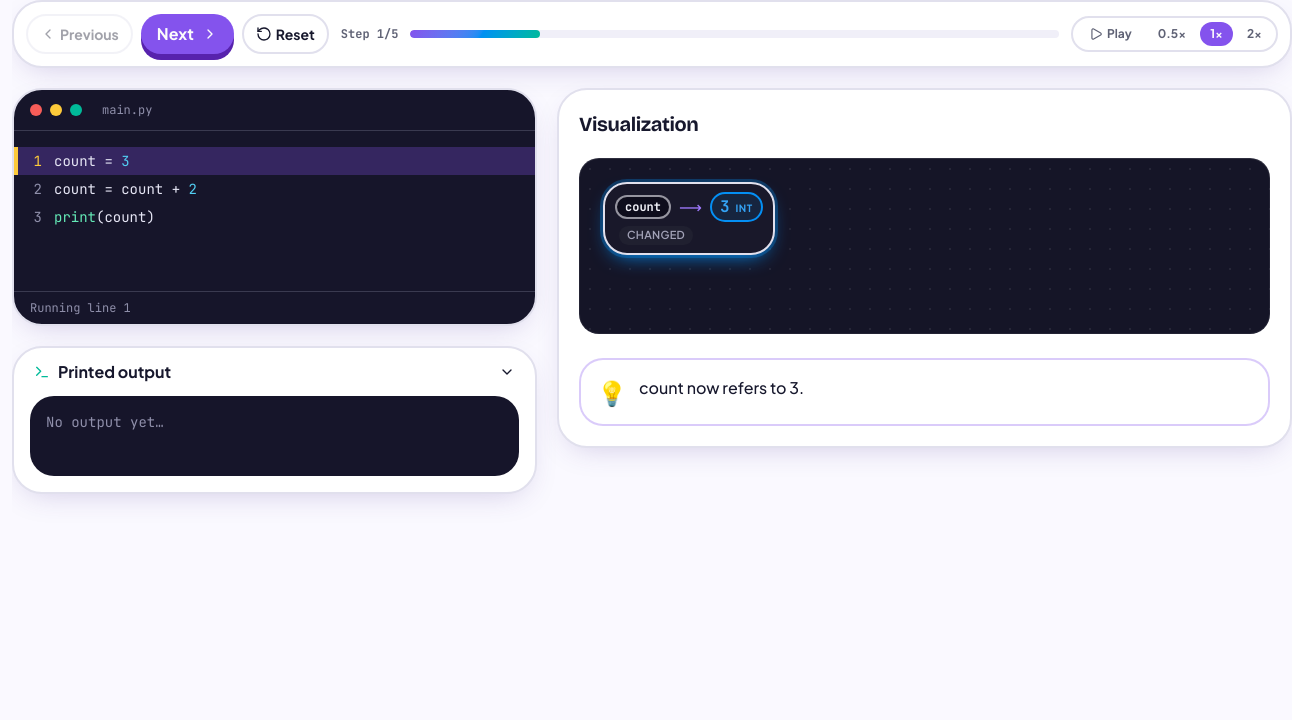
Scenario: WalkthroughPlayer keeps code and diagram in sync › Reset returns to the first event
Step 1. Click the button named "Next step" → (187,34), box 141,14 -> 234,54
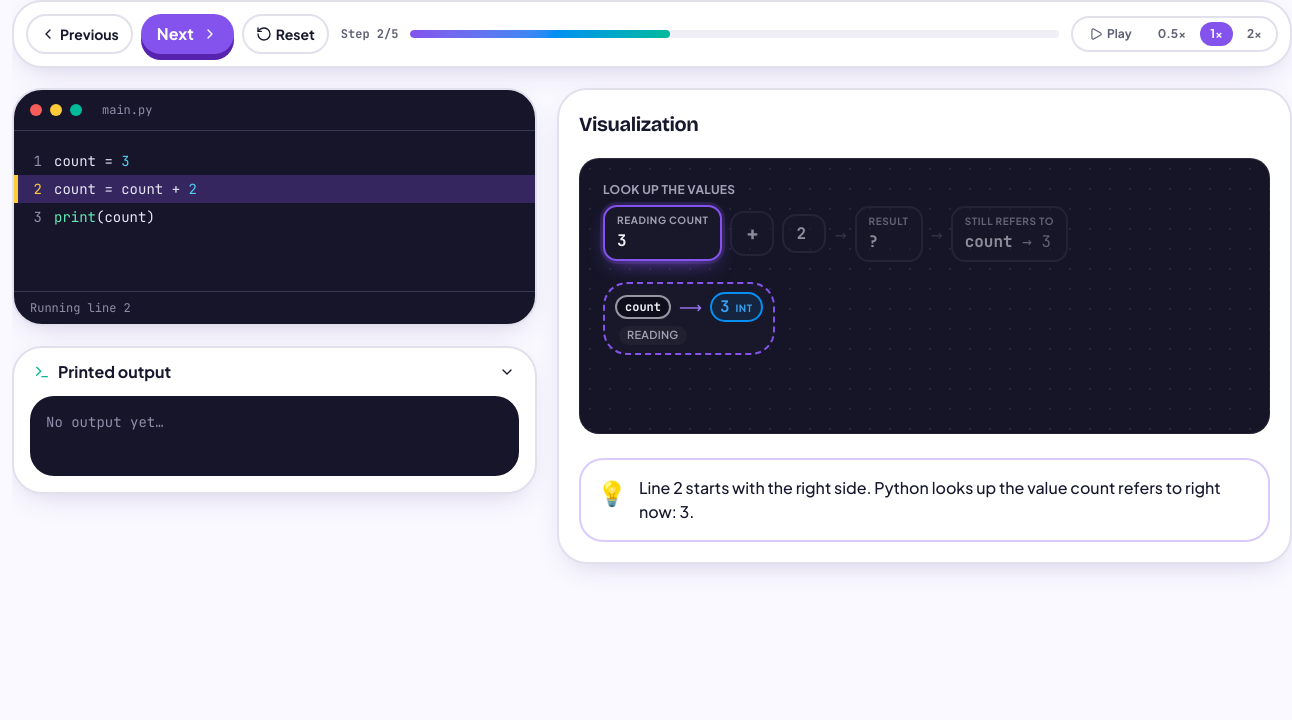
Step 2. Click the button named "Next step" → (187,34), box 141,14 -> 234,54
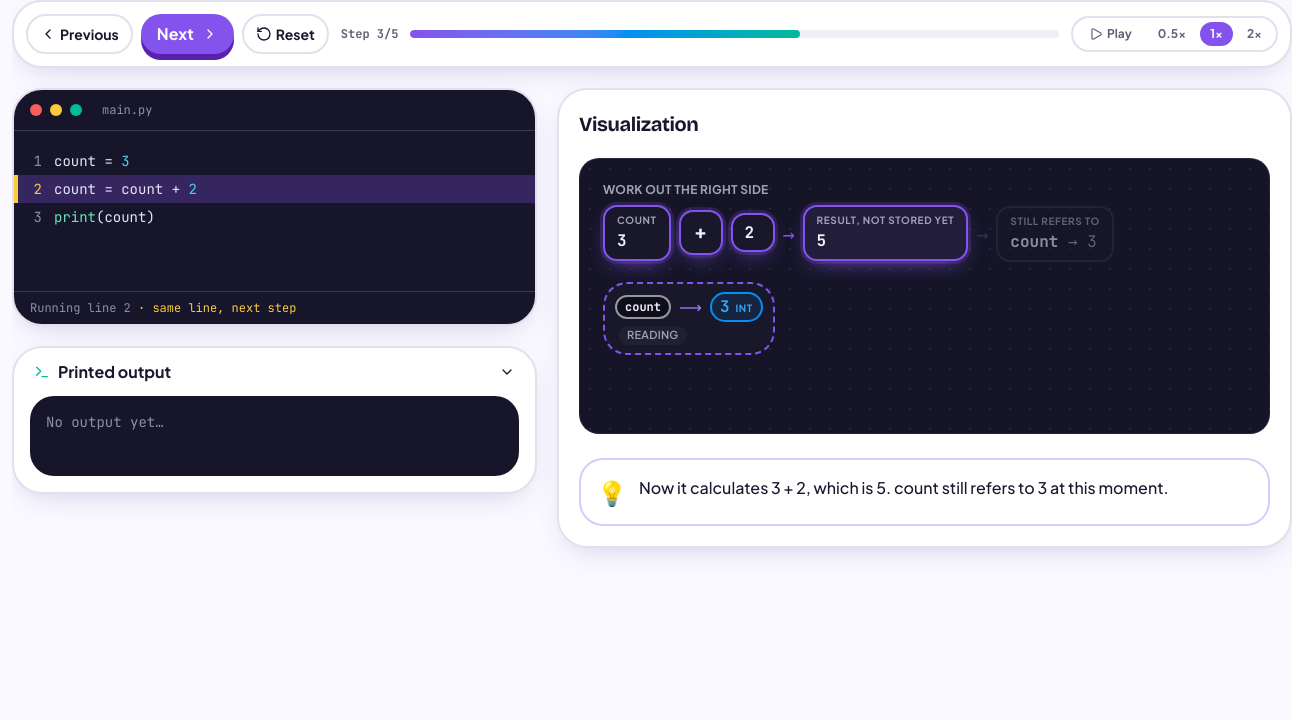
Step 3. Click the button "Reset" → (285,34), box 242,14 -> 329,54
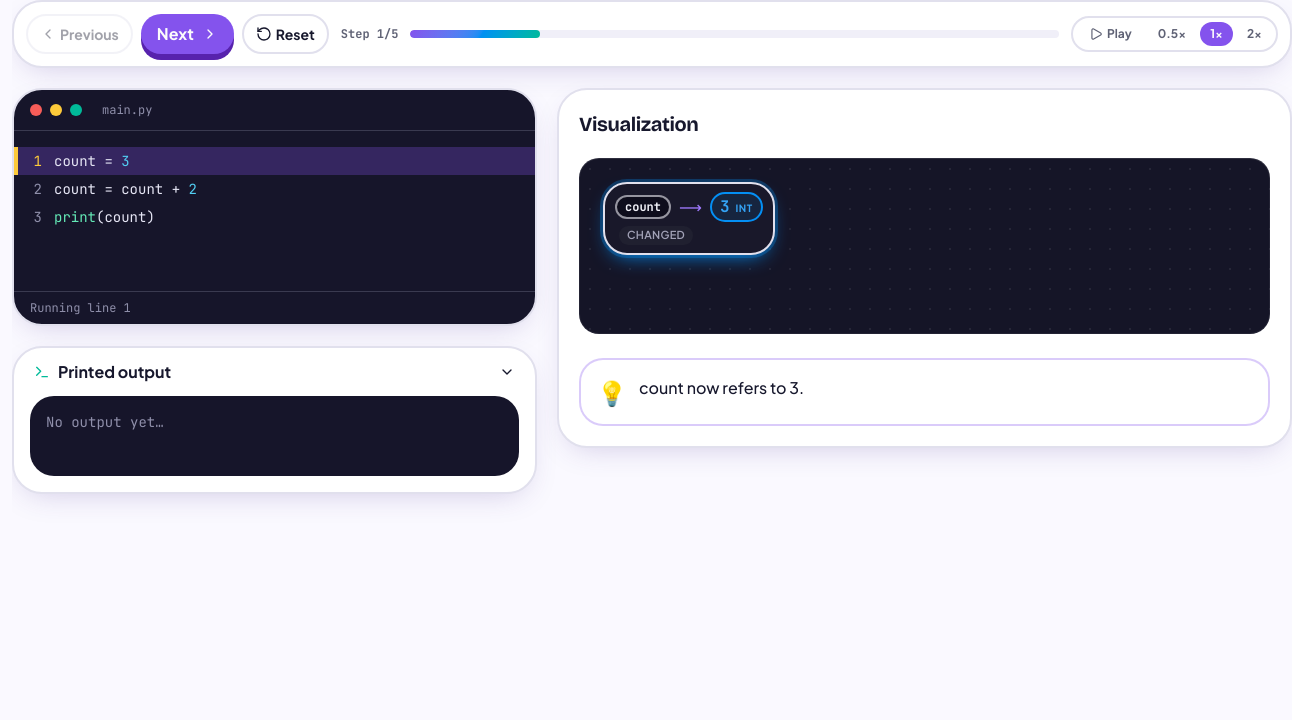
Check: the text "count now refers to 3." is shown, box 639,376 -> 804,400
